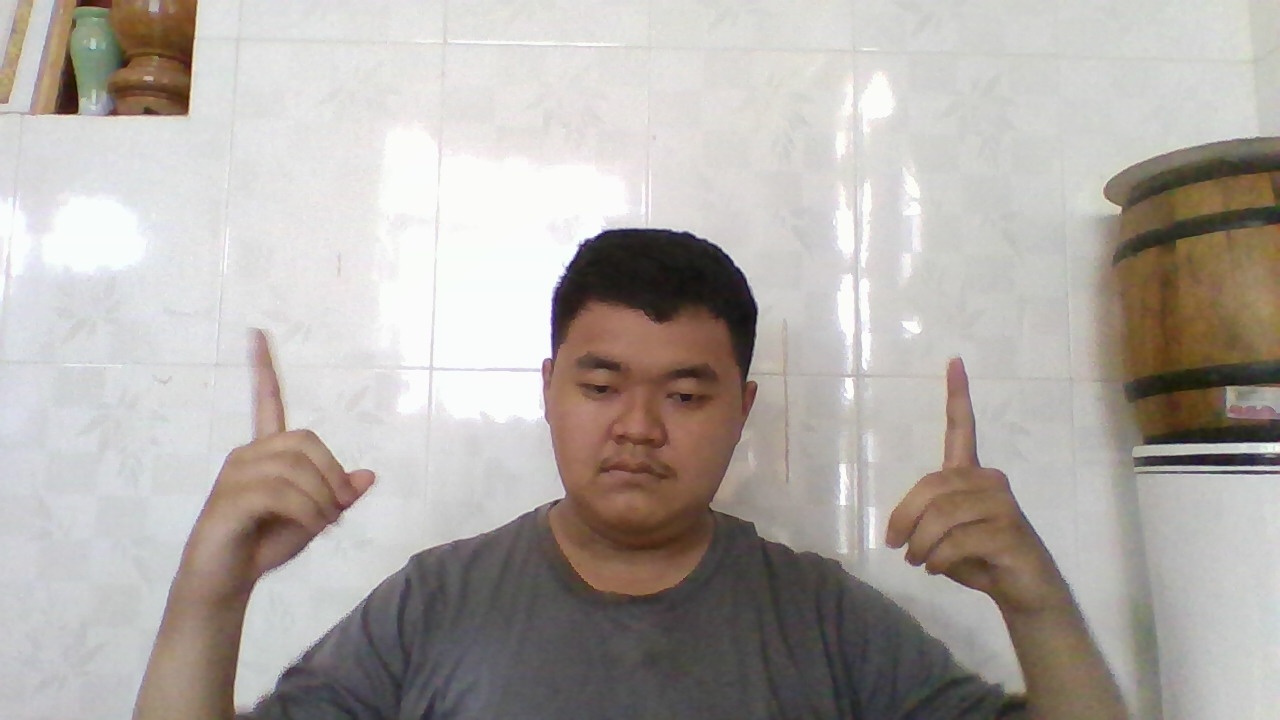D: (207, 322, 379, 599), (873, 347, 1042, 613)
